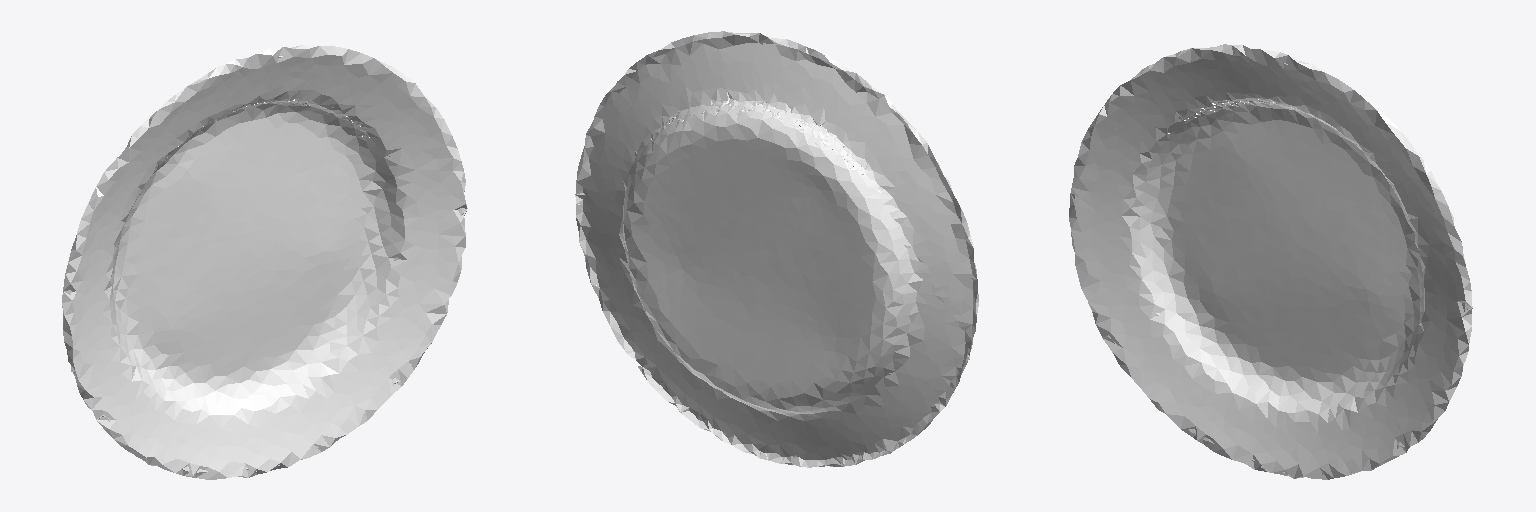
The model's file is plate.obj.
3 views of the same model, side by side, from view 1: azimuth 30°, elevation 25°; view 2: azimuth 150°, elevation 25°; view 3: azimuth 330°, elevation 25° (orthographic).
Bounding box in the file's own units: 0.26 × 0.2606 × 0.0269.